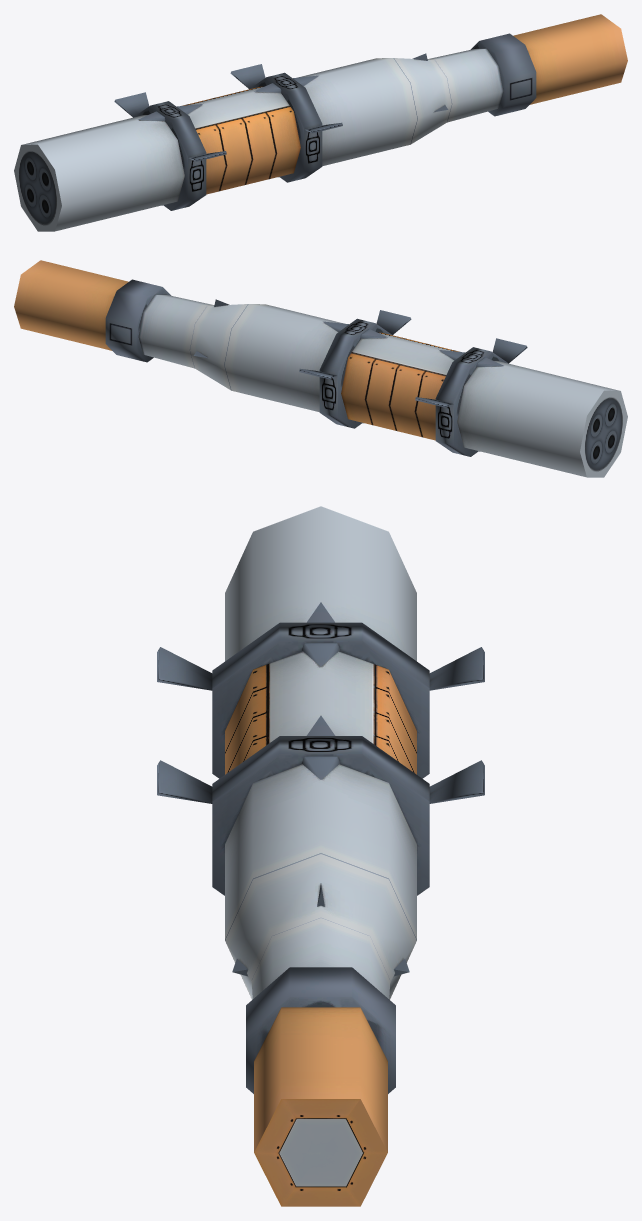
Rendered from Moebius Missile.dae.
3 renders of one model, top to bottom at view 1: azimuth 30°, elevation 25°; view 2: azimuth 150°, elevation 25°; view 3: azimuth 270°, elevation 25°, orthographic. The views are drawn at different scales.
Parts seen in each view (by area): view 1: aw_moebius____miss02.001; view 2: aw_moebius____miss02.001; view 3: aw_moebius____miss02.001.
Boxes of the visible parts, box(x1,y1,x2,y2) form: aw_moebius____miss02.001: box(14, 14, 627, 231); aw_moebius____miss02.001: box(14, 260, 627, 477); aw_moebius____miss02.001: box(157, 506, 484, 1206).
Size of the model in its own units: 1.36 by 0.3371 by 0.2053.
Materials: 1 (1 with a texture image).
